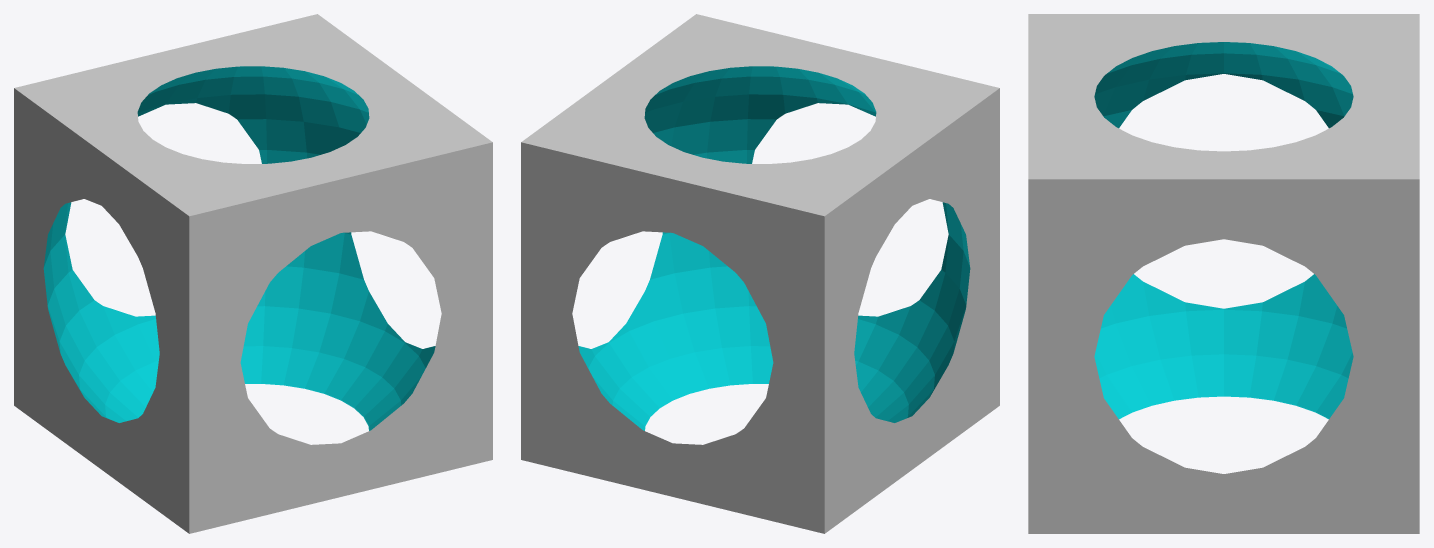
3 renders of one model, left to right at view 1: azimuth 30°, elevation 25°; view 2: azimuth 150°, elevation 25°; view 3: azimuth 270°, elevation 25°, orthographic. The views are drawn at different scales.
Visible parts, largest first — view 1: Cube; view 2: Cube; view 3: Cube.
Part boxes in pixels (x1,y1,x2,y2): Cube: [14, 14, 492, 533]; Cube: [521, 14, 999, 533]; Cube: [1028, 14, 1419, 533].
Size of the model in its own units: 200 by 200 by 200.
